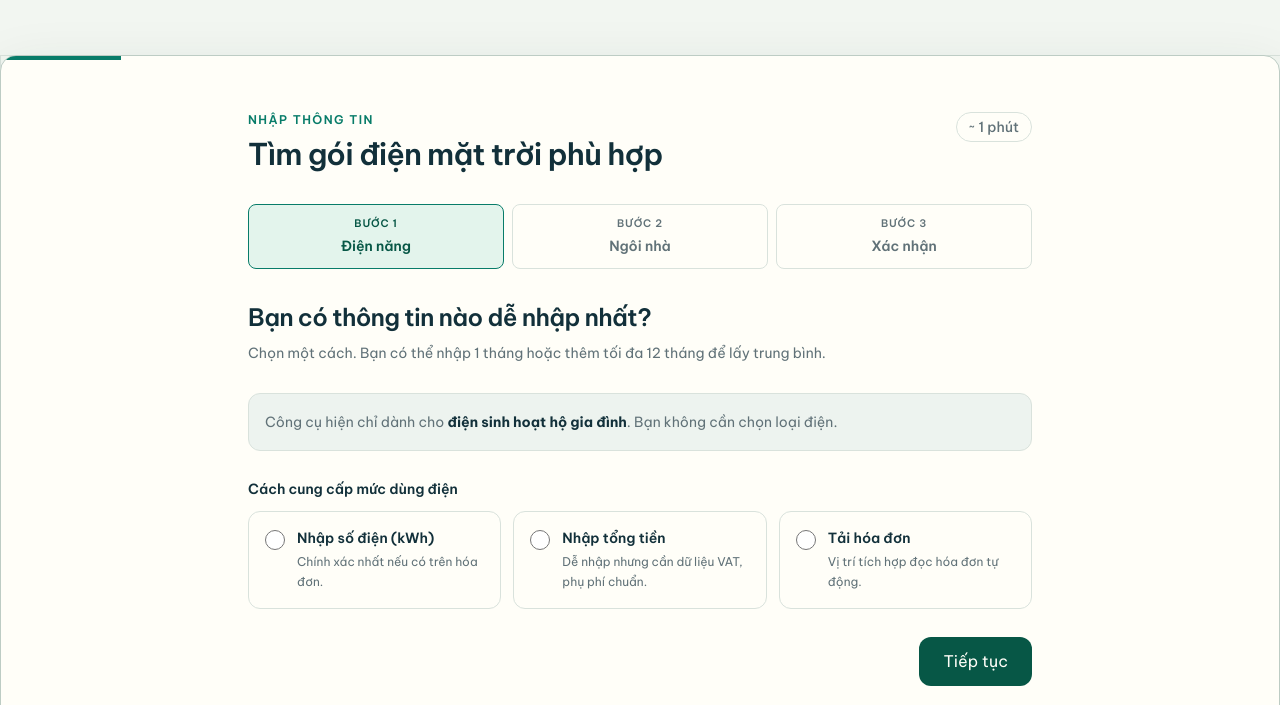
Test: SolarCalculator › hiển thị đường tích hợp hóa đơn nhưng không giả lập tải lên hoặc OCR
Click the radio button labelled "Tải hóa đơn Vị trí tích hợp đọc hóa đơn tự động." at [806, 540], box [796, 530, 816, 550]
(page scrolled)
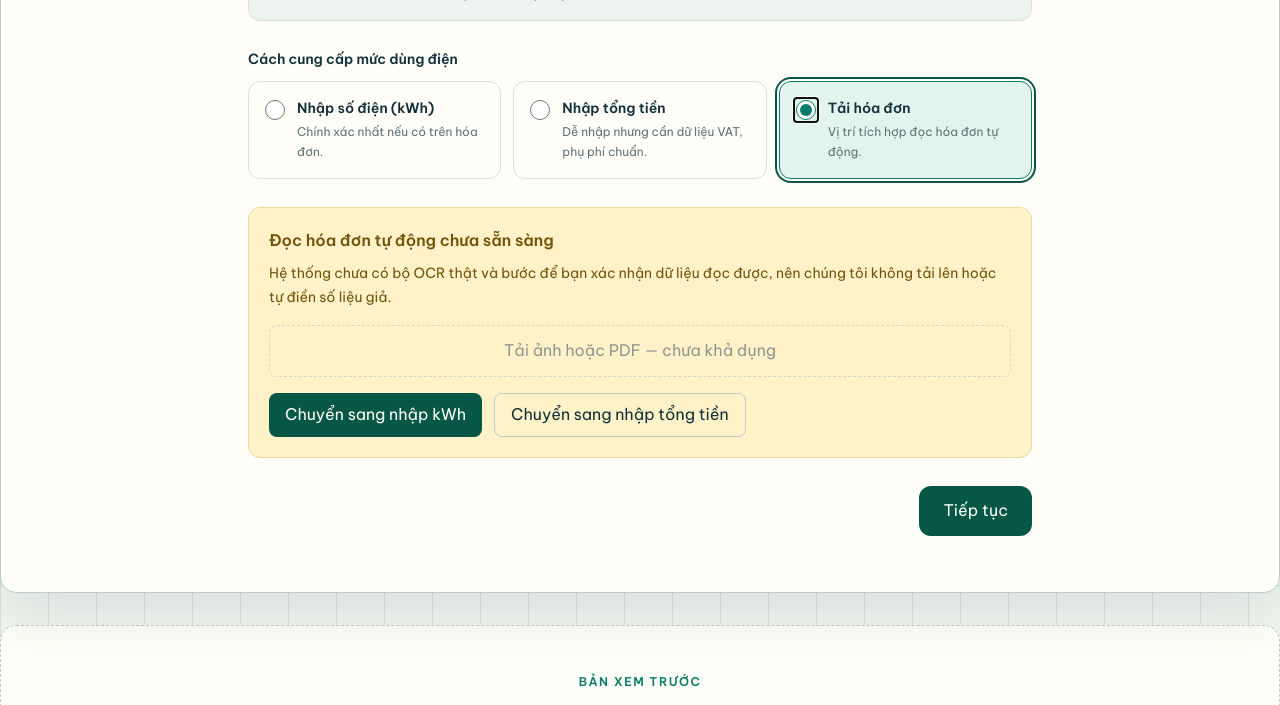
Check: the text "Đọc hóa đơn tự động chưa sẵn sàng" is shown, box [269, 230, 554, 250]
Check: the button "Tải ảnh hoặc PDF — chưa khả dụng" is disabled, box [269, 326, 1011, 377]
